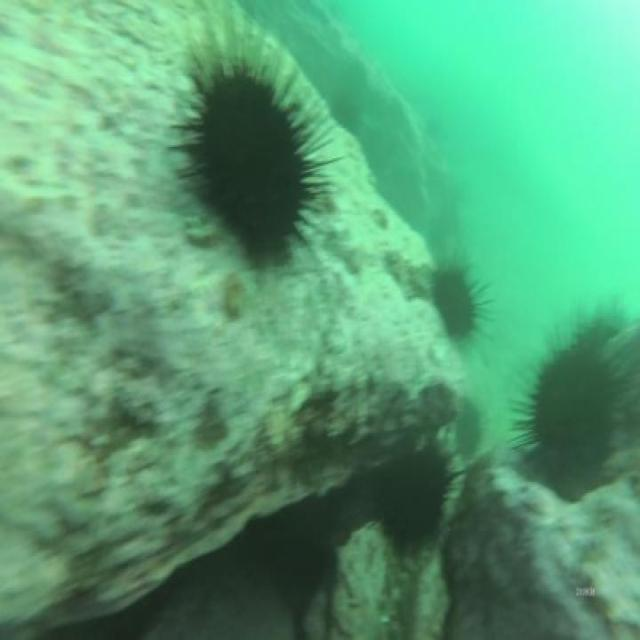echinus: (180, 57, 312, 272), (527, 330, 623, 504), (374, 434, 455, 569), (426, 261, 476, 346)
